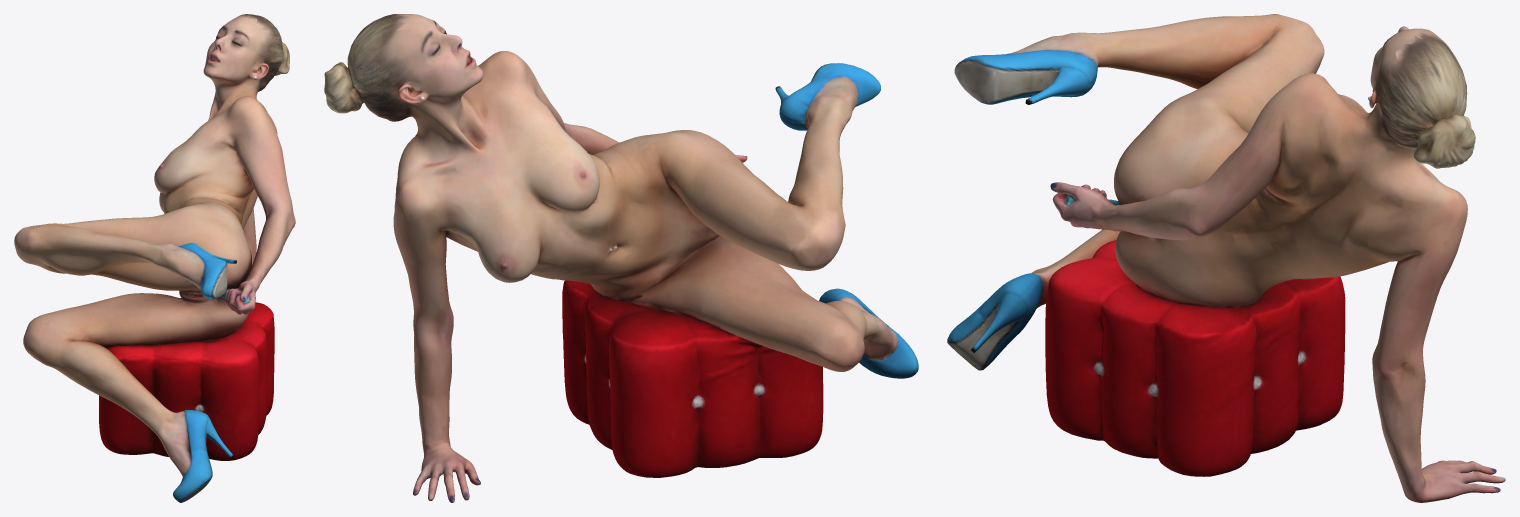
File: nsC001xh.glb
3 renders of one model, left to right at view 1: azimuth 30°, elevation 25°; view 2: azimuth 150°, elevation 25°; view 3: azimuth 270°, elevation 25°, orthographic. The views are drawn at different scales.
Parts seen in each view (by area): view 1: Atlas1.001; view 2: Atlas1.001; view 3: Atlas1.001.
Part boxes in pixels (<box>): Atlas1.001: <box>14,14,295,502</box>; Atlas1.001: <box>324,14,918,502</box>; Atlas1.001: <box>947,14,1505,502</box>.
Size of the model in its own units: 1.08 by 1.03 by 1.08.
1 material, 1 textured.
